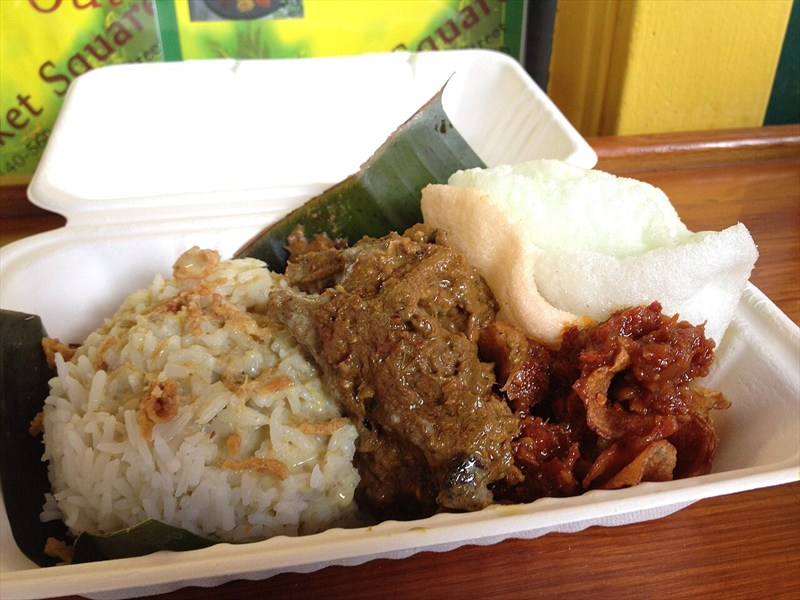Rendang: (17, 12, 758, 541)
